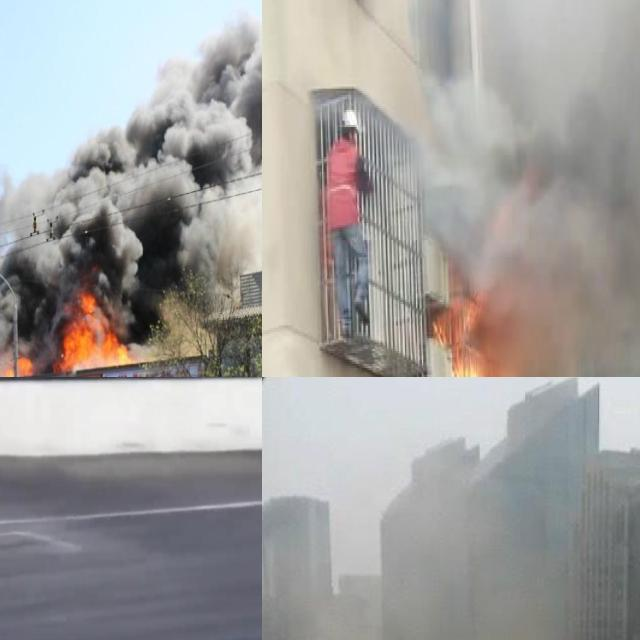fire: (54, 288, 129, 376), (432, 302, 513, 377), (1, 352, 33, 377)
smoke: (0, 15, 262, 351), (407, 0, 640, 377), (308, 605, 376, 640)
